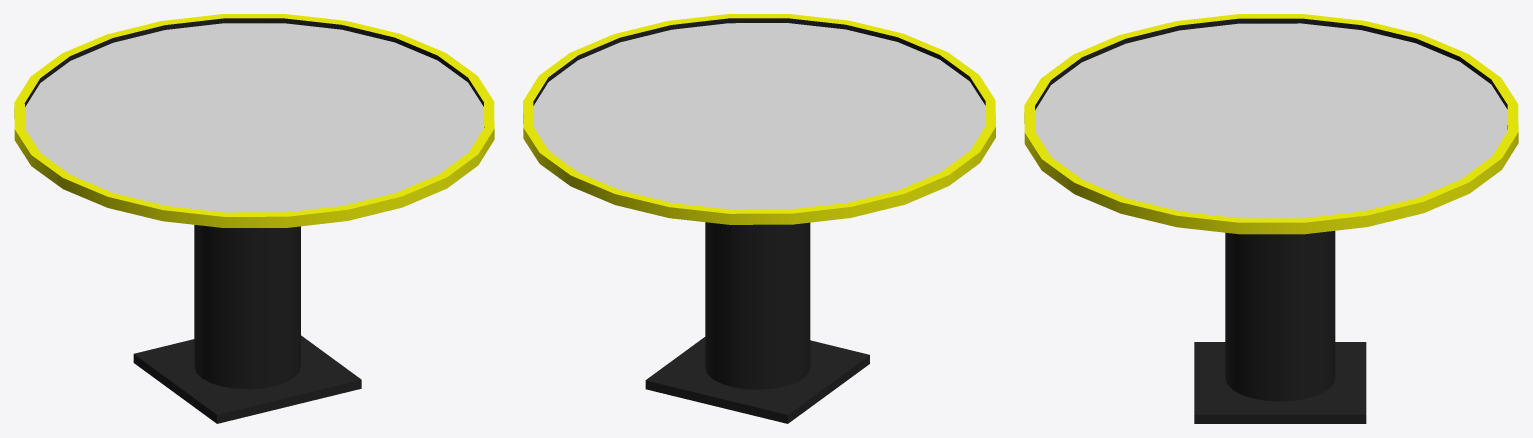
The model's file is table.fbx.
The picture shows the model from 3 angles, left to right: view 1: azimuth 30°, elevation 25°; view 2: azimuth 150°, elevation 25°; view 3: azimuth 270°, elevation 25°; orthographic projection. The views are drawn at different scales.
Parts seen in each view (by area): view 1: Model; view 2: Model; view 3: Model.
Part boxes in pixels (left/top/right/bottom): Model: left=14, top=14, right=494, bottom=423; Model: left=523, top=14, right=995, bottom=423; Model: left=1024, top=14, right=1518, bottom=423.
Size of the model in its own units: 14.38 by 8.69 by 14.38.
